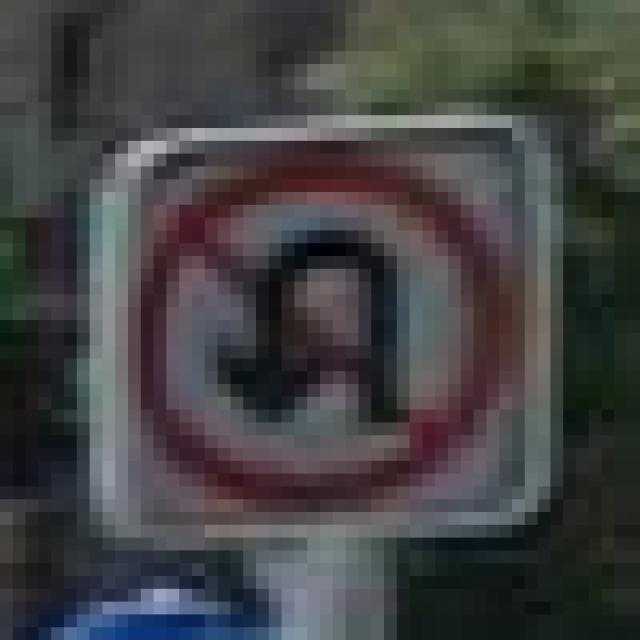u turn prohibited: (125, 148, 509, 513)
